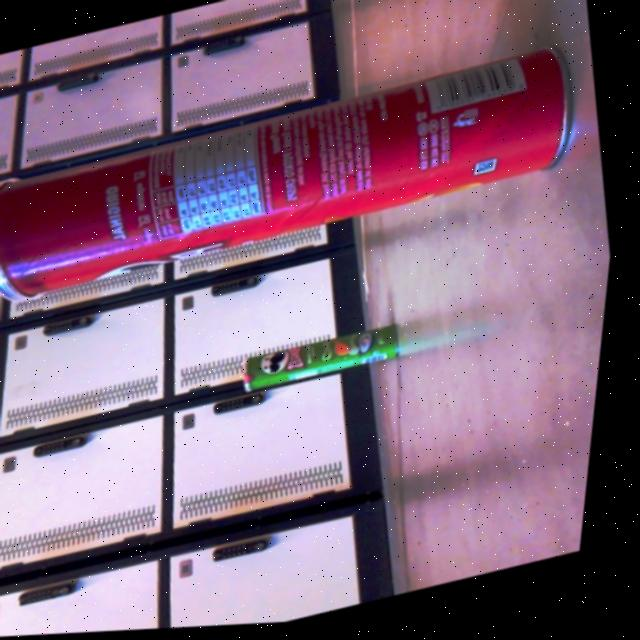greenpringles: (229, 304, 447, 413)
redpringles: (0, 28, 616, 328)
